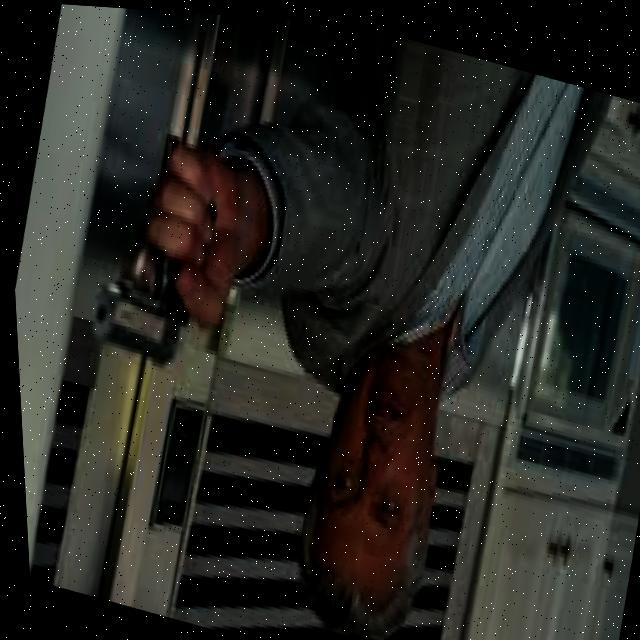pistol: (79, 230, 203, 369)
